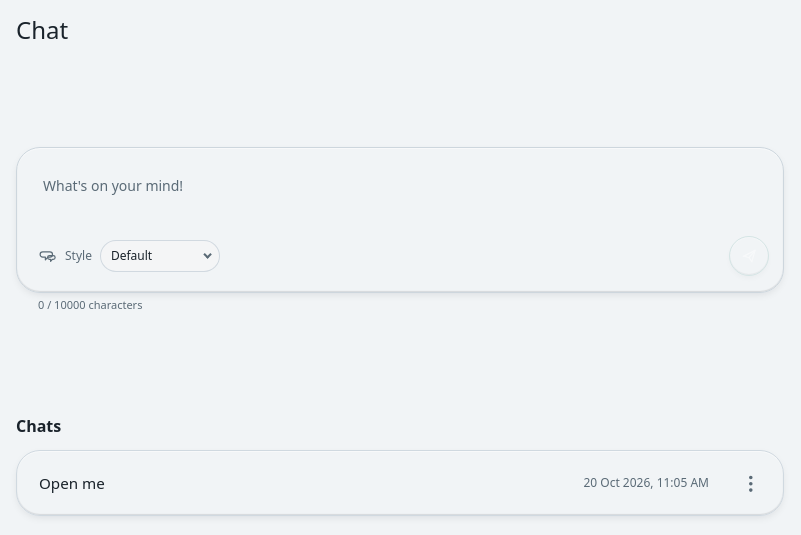
Scenario: chat landing and conversation UX (#246) › opens a previous chat via its row without leaving Chats visible
The width and height of the screenshot is (801, 535).
Click the link "Open me 20 Oct 2026, 11:05 AM" at (72, 483), box [39,473,709,493]
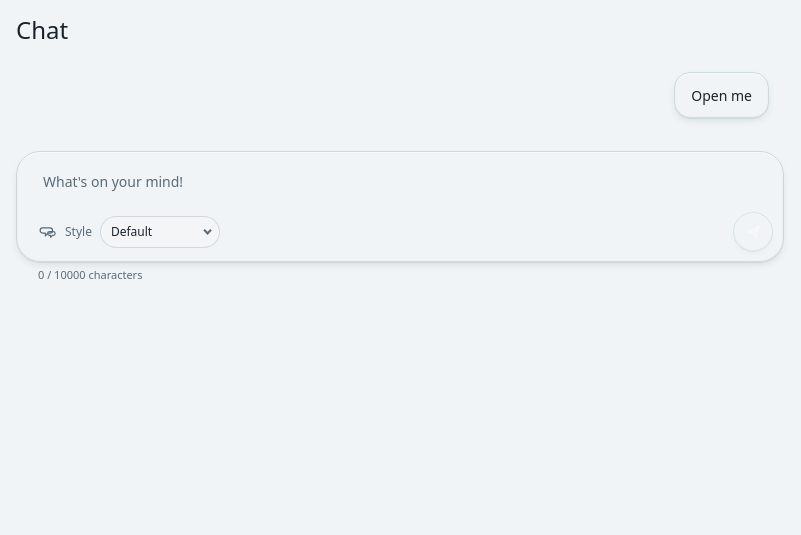
Expected: the element showing "Chat Open me Style Default 0 / 10000 characters" is shown, [16,13,784,282]
Expected: the heading "Chats" is gone
